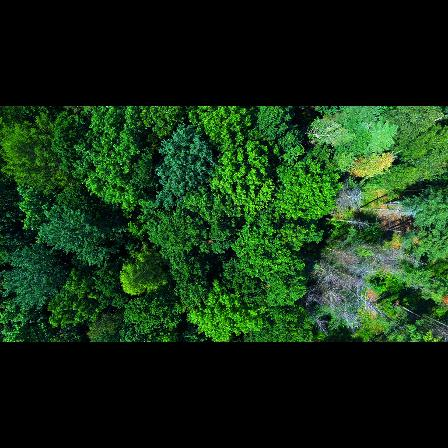Dead: (344, 283, 404, 329), (311, 287, 357, 325), (316, 266, 363, 301), (374, 243, 424, 268), (320, 244, 364, 268), (329, 177, 363, 208), (320, 213, 371, 231), (303, 302, 326, 332), (340, 261, 381, 277)
